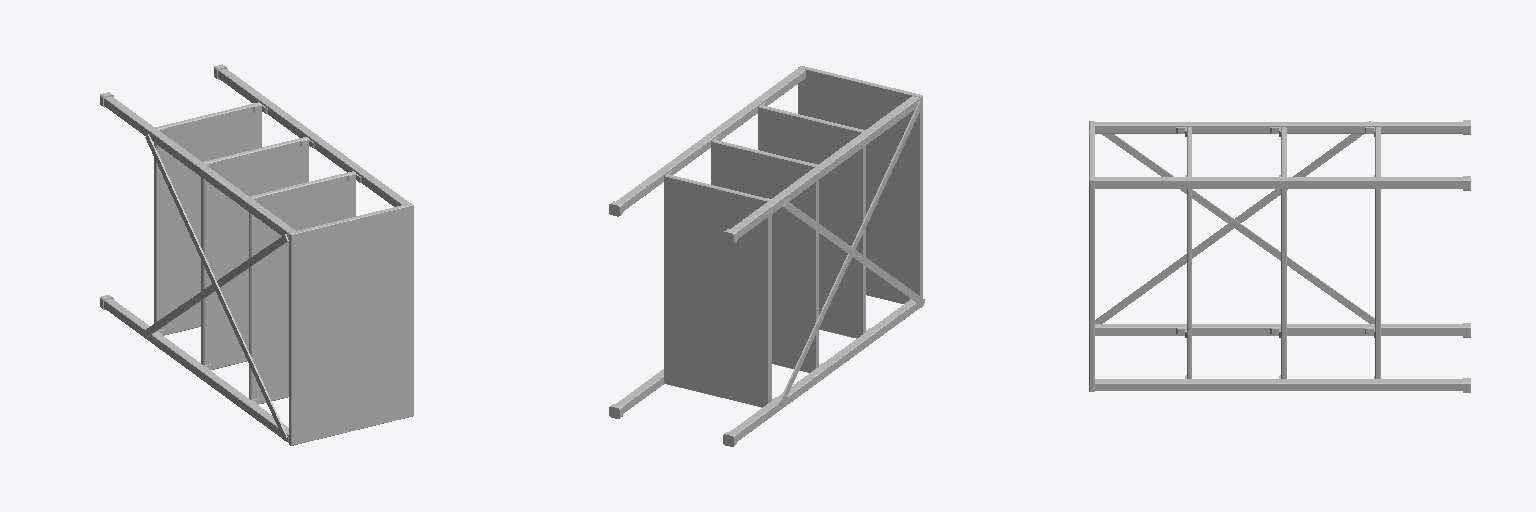
File: shelf2_b7e52961.obj
3 renders of one model, left to right at view 1: azimuth 30°, elevation 25°; view 2: azimuth 150°, elevation 25°; view 3: azimuth 270°, elevation 25°, orthographic.
Visible parts, largest first — view 1: shelf2; view 2: shelf2; view 3: shelf2.
Part boxes in pixels (left/top/right/bottom): shelf2: left=100, top=64, right=413, bottom=445; shelf2: left=609, top=66, right=924, bottom=446; shelf2: left=1089, top=120, right=1470, bottom=392.
Bounding box in the file's own units: 35.92 × 57.74 × 93.51.